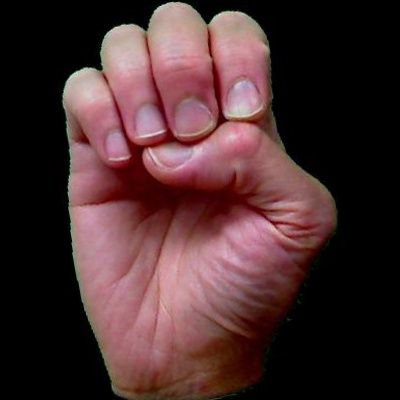e: (2, 3, 397, 395)
